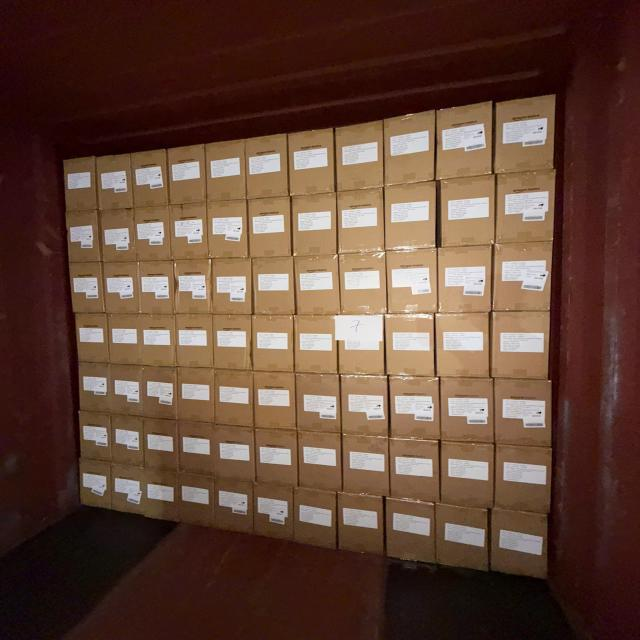Carton: (494, 93, 557, 174), (435, 98, 495, 182), (492, 508, 552, 584), (494, 170, 556, 243), (495, 242, 556, 313), (382, 108, 438, 184), (493, 379, 553, 449), (494, 312, 554, 382), (494, 446, 553, 516), (441, 174, 498, 246), (438, 438, 494, 508), (437, 505, 492, 576), (284, 126, 338, 196), (334, 118, 385, 191), (436, 246, 491, 313), (438, 312, 493, 379), (440, 378, 494, 446), (387, 182, 439, 250), (385, 498, 437, 565), (388, 248, 439, 314), (242, 132, 290, 201), (391, 440, 442, 504), (382, 315, 433, 378), (392, 377, 442, 441), (338, 490, 387, 554), (343, 436, 390, 502), (339, 252, 387, 316), (211, 421, 259, 485), (337, 314, 386, 376), (338, 189, 384, 254), (342, 376, 389, 438), (165, 142, 209, 208), (296, 432, 342, 495), (203, 137, 246, 204), (294, 194, 339, 258), (294, 371, 338, 433), (293, 487, 336, 550), (294, 255, 338, 316), (250, 198, 293, 260), (175, 418, 218, 480), (255, 429, 299, 489), (253, 256, 296, 317), (254, 370, 297, 430), (252, 316, 296, 374), (253, 484, 295, 544), (293, 315, 335, 374), (129, 148, 168, 210), (208, 200, 248, 259), (139, 311, 180, 368), (213, 258, 253, 316), (215, 369, 255, 427), (213, 477, 253, 533), (214, 315, 253, 372), (112, 465, 151, 521), (95, 152, 130, 213), (173, 259, 211, 315), (178, 369, 216, 425), (108, 362, 146, 418), (173, 203, 210, 260), (177, 315, 215, 370), (179, 475, 216, 531), (105, 312, 143, 366), (77, 360, 113, 416), (140, 469, 177, 523), (136, 205, 172, 260), (106, 262, 142, 315), (102, 208, 138, 261), (138, 262, 173, 316), (142, 366, 177, 420), (142, 418, 178, 470), (71, 262, 105, 313), (76, 312, 110, 363), (64, 160, 96, 214), (78, 459, 110, 513), (66, 210, 99, 262), (111, 416, 143, 469), (78, 411, 111, 462)
